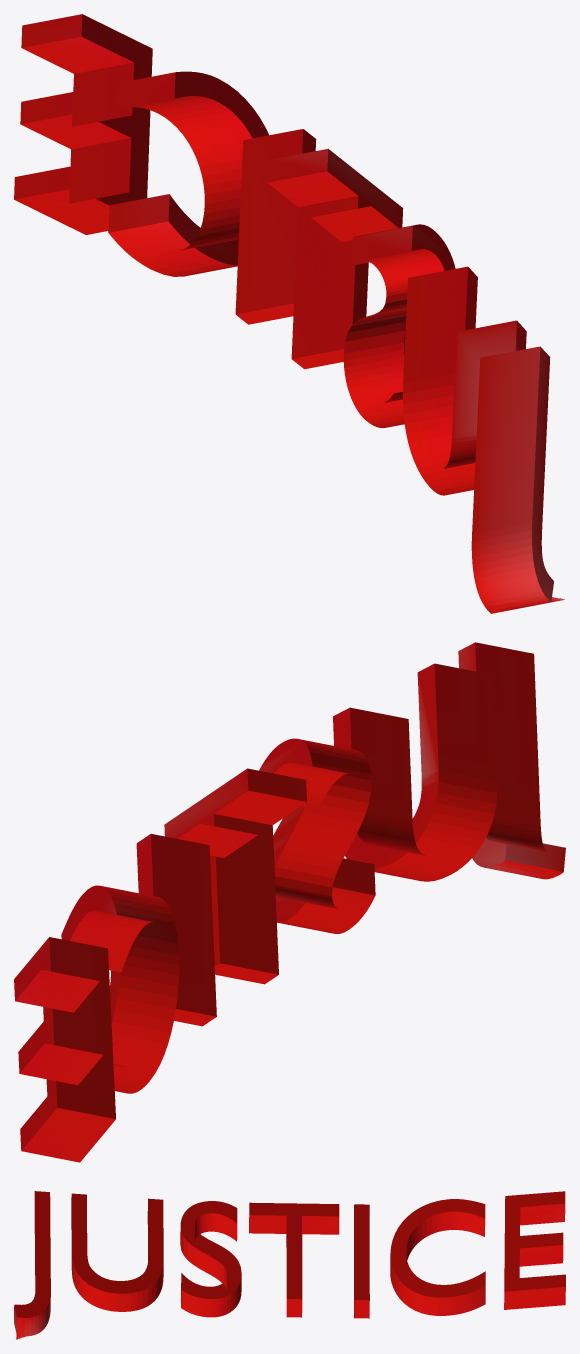
File: justice.glb
The picture shows the model from 3 angles, top to bottom: view 1: azimuth 30°, elevation 25°; view 2: azimuth 150°, elevation 25°; view 3: azimuth 270°, elevation 25°; orthographic projection. The views are drawn at different scales.
Visible parts, largest first — view 1: Texte; view 2: Texte; view 3: Texte.
Part boxes in pixels (<box>): Texte: <box>14,14,564,613</box>; Texte: <box>14,642,565,1162</box>; Texte: <box>14,1191,565,1339</box>.
Bounding box in the file's own units: 0.5096 × 0.9322 × 3.49.
